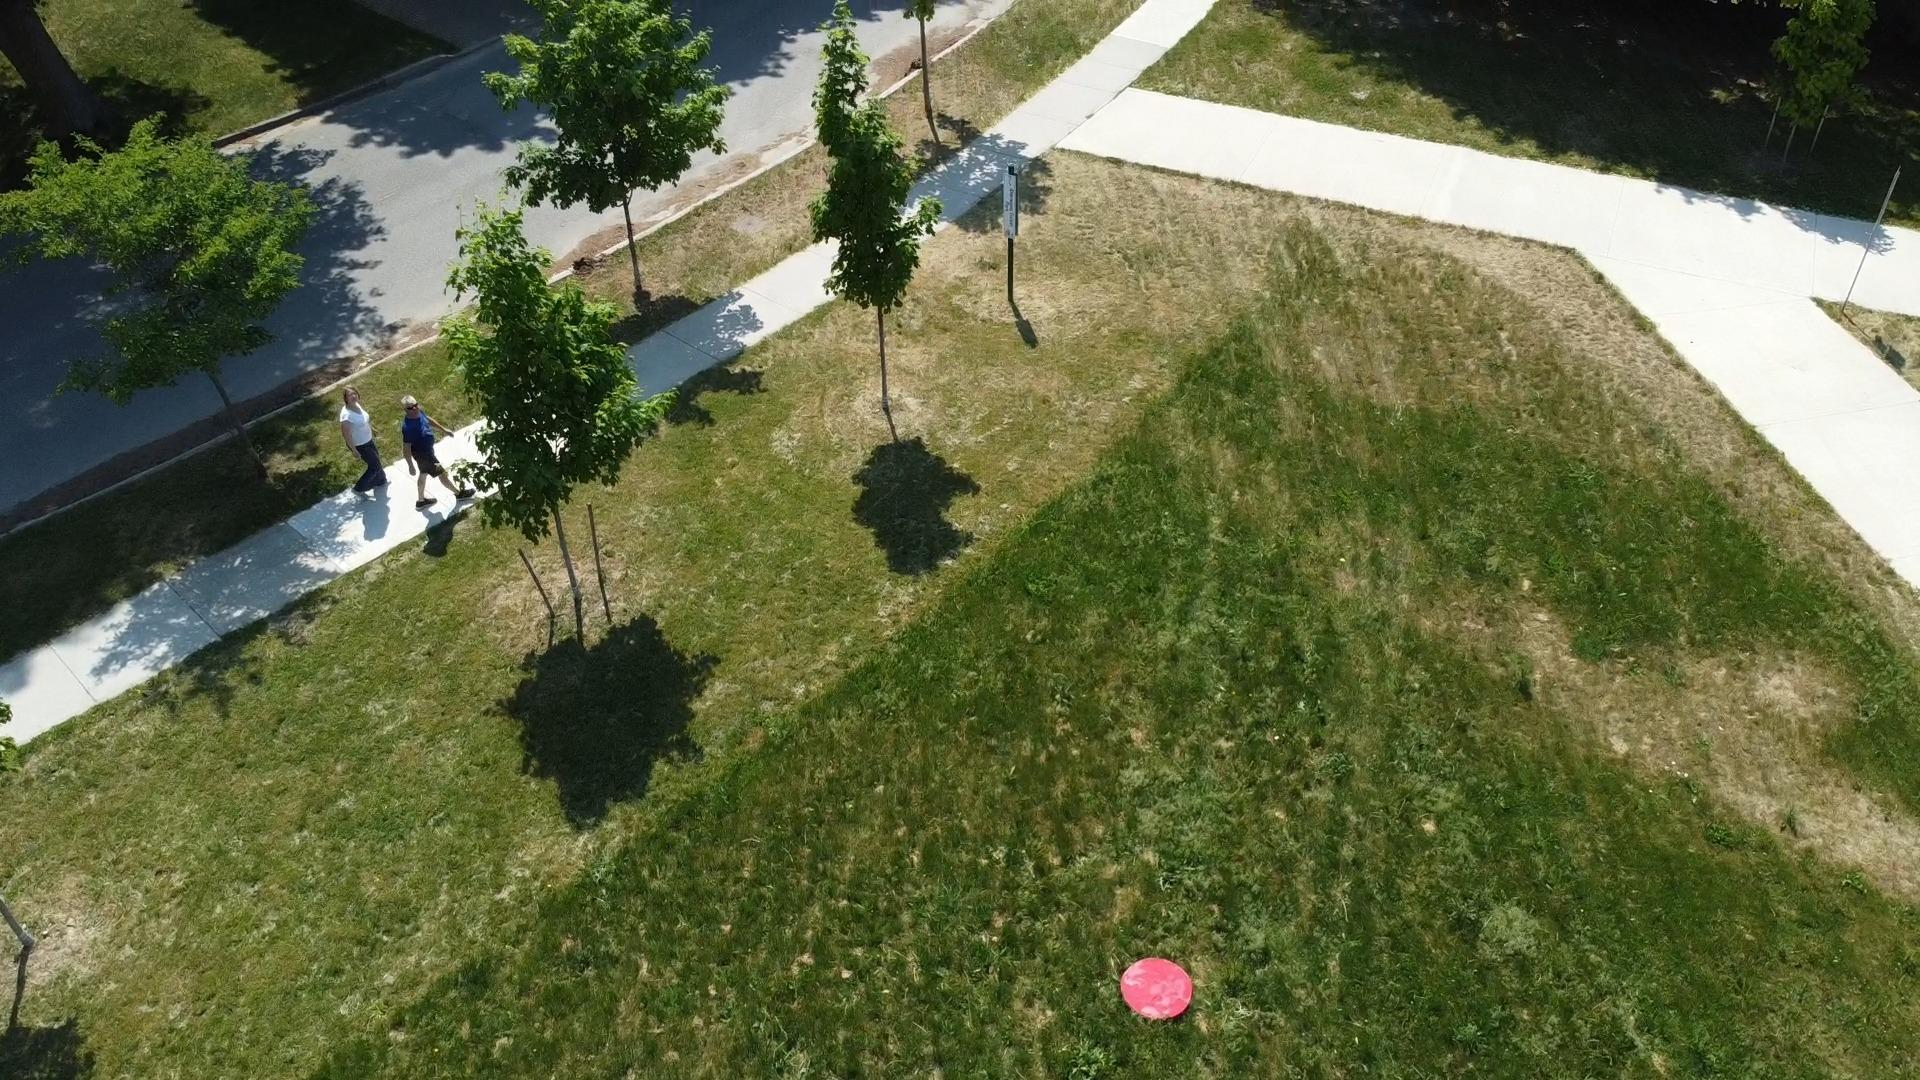Red: (1120, 953, 1193, 1021)
